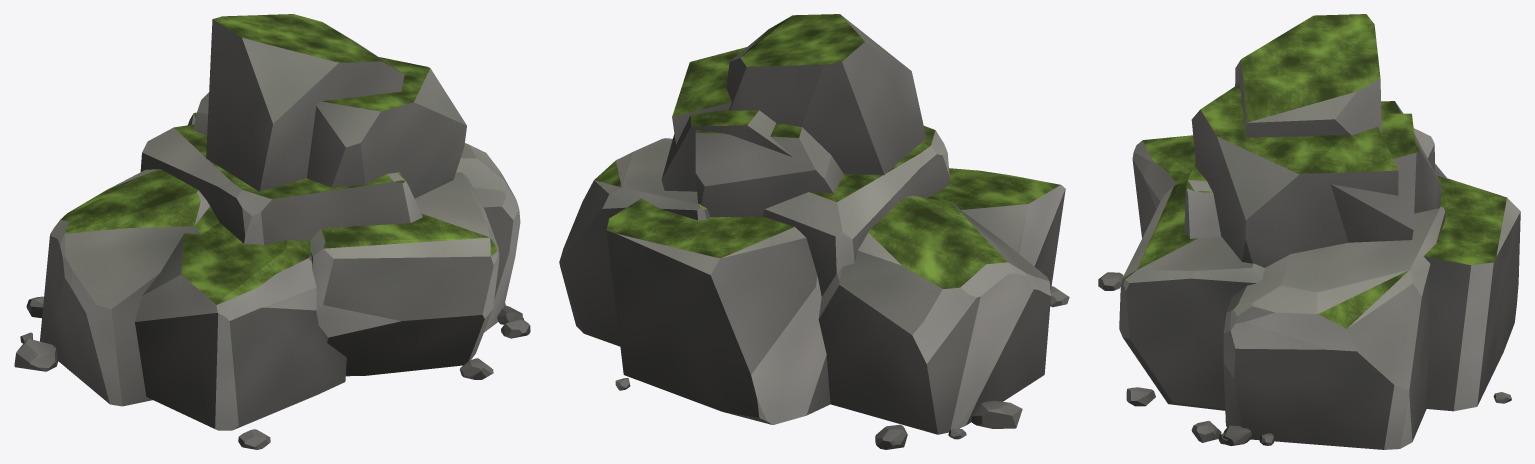
Rendered from Cracked_rock_04.glb.
The picture shows the model from 3 angles, left to right: view 1: azimuth 30°, elevation 25°; view 2: azimuth 150°, elevation 25°; view 3: azimuth 270°, elevation 25°; orthographic projection.
Parts seen in each view (by area): view 1: Rock; view 2: Rock; view 3: Rock.
Part boxes in pixels (x1=…): Rock: x1=14, y1=14, x2=530, y2=449; Rock: x1=559, y1=14, x2=1069, y2=449; Rock: x1=1098, y1=14, x2=1520, y2=449.
Size of what is drawn, in the model's own units: 3.62 by 2.39 by 2.93.
Materials: 2 (2 with a texture image).
